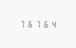four: (50, 20, 57, 28)
seven: (34, 19, 41, 28), (18, 19, 25, 27)
six: (26, 19, 33, 27), (42, 20, 49, 28)
